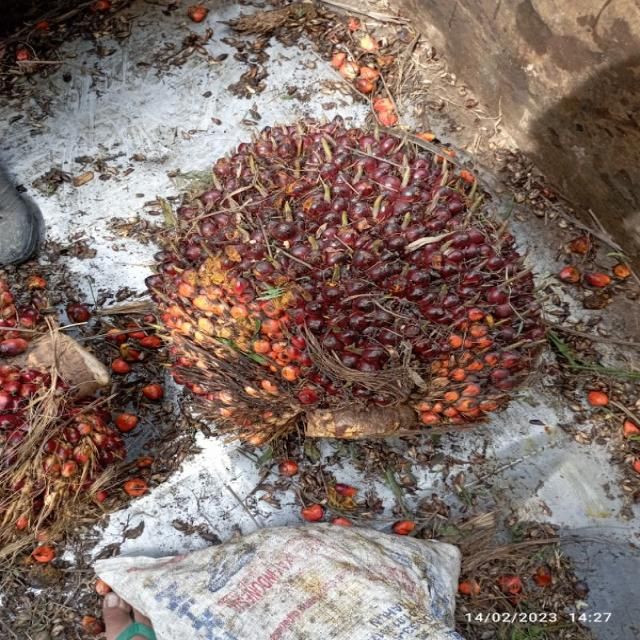fraksi 3: (125, 109, 538, 453)
